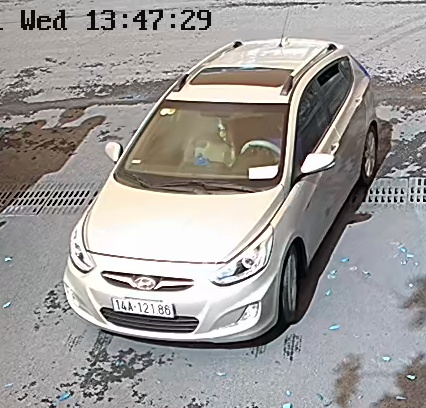vehicle plate: (109, 291, 177, 320)
